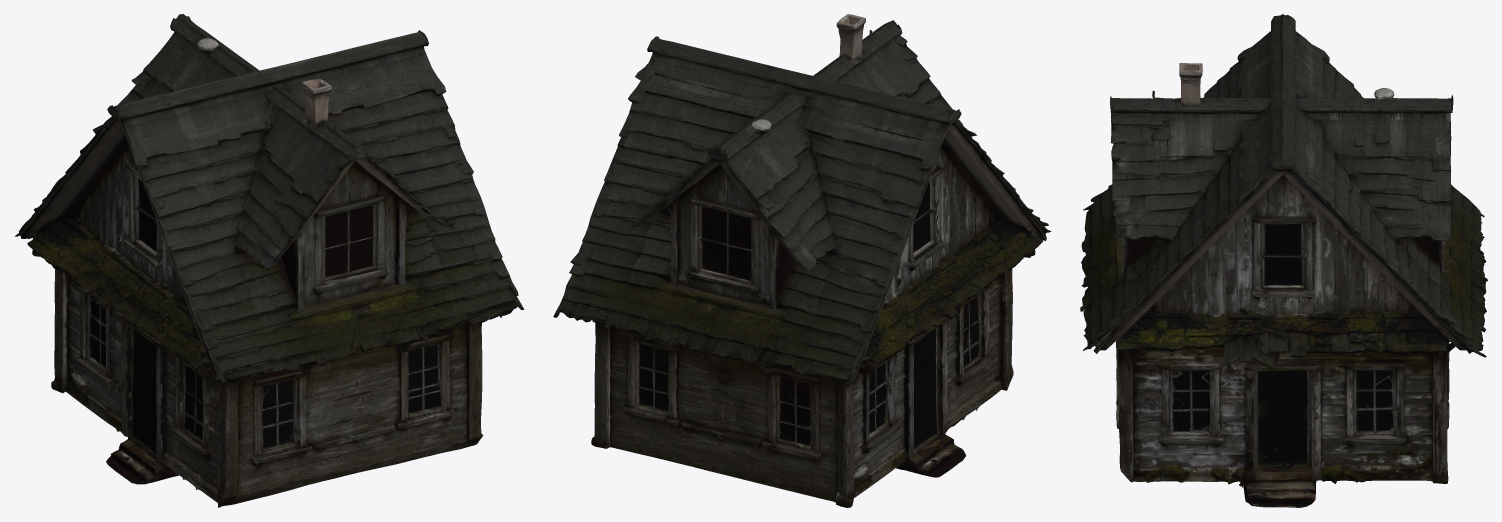
The model's file is abandoned+wooden+cabin+3d+model.glb.
3 renders of one model, left to right at view 1: azimuth 30°, elevation 25°; view 2: azimuth 150°, elevation 25°; view 3: azimuth 270°, elevation 25°, orthographic. The views are drawn at different scales.
Parts seen in each view (by area): view 1: tripo_node_ad912127-75b8-494f-948b-391dacdad68b; view 2: tripo_node_ad912127-75b8-494f-948b-391dacdad68b; view 3: tripo_node_ad912127-75b8-494f-948b-391dacdad68b.
Part boxes in pixels (left/top/right/bottom): tripo_node_ad912127-75b8-494f-948b-391dacdad68b: left=15, top=14, right=524, bottom=507; tripo_node_ad912127-75b8-494f-948b-391dacdad68b: left=553, top=14, right=1051, bottom=507; tripo_node_ad912127-75b8-494f-948b-391dacdad68b: left=1080, top=14, right=1487, bottom=507.
Bounding box in the file's own units: 0.8858 × 0.9998 × 0.9894.
Materials: 1 (1 with a texture image).
